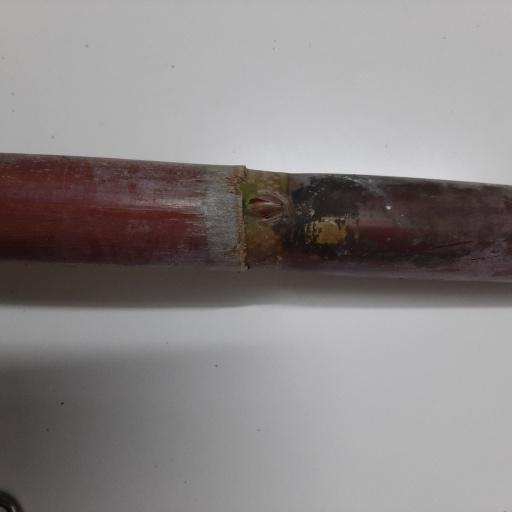Bud: (243, 193, 286, 220)
